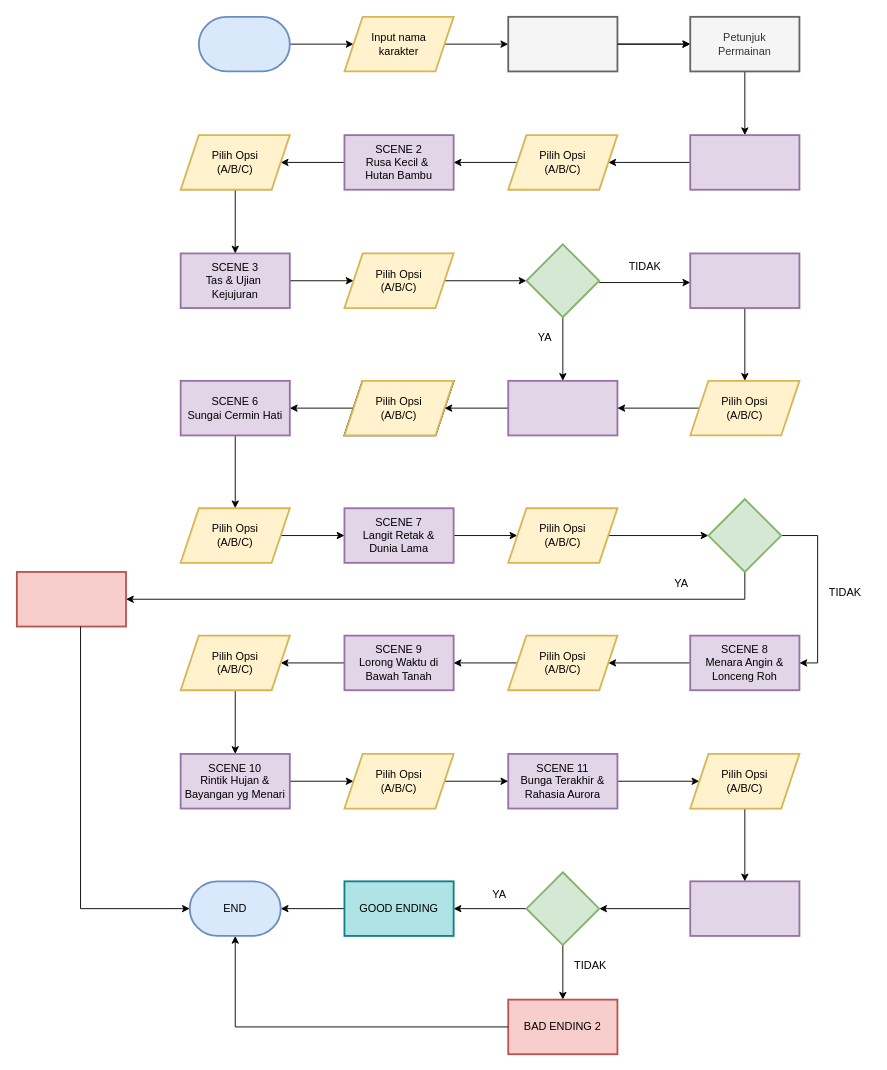
This 887x1070 diagram has some shape labels left out. The shapes that lost their labels are listed below. From the top down, each one's centre as x and y in pixels, then its label:
At (x=243, y=43): "Start".
At (x=562, y=43): "Intro game".
At (x=744, y=162): "SCENE 1 Daun Petunjuk".
At (x=562, y=280): "User milih Opsi C?".
At (x=744, y=280): "SCENE 4 Pohon Kecil & Ujian Empati".
At (x=562, y=407): "SCENE 5 Kabut & Suara Panggilan".
At (x=744, y=535): "User milih Opsi A?".
At (x=70, y=599): "BAD ENDING 1".
At (x=562, y=908): "XP >= 300?".
At (x=744, y=908): "SCENE 12 Penimbangan Jiwa".
